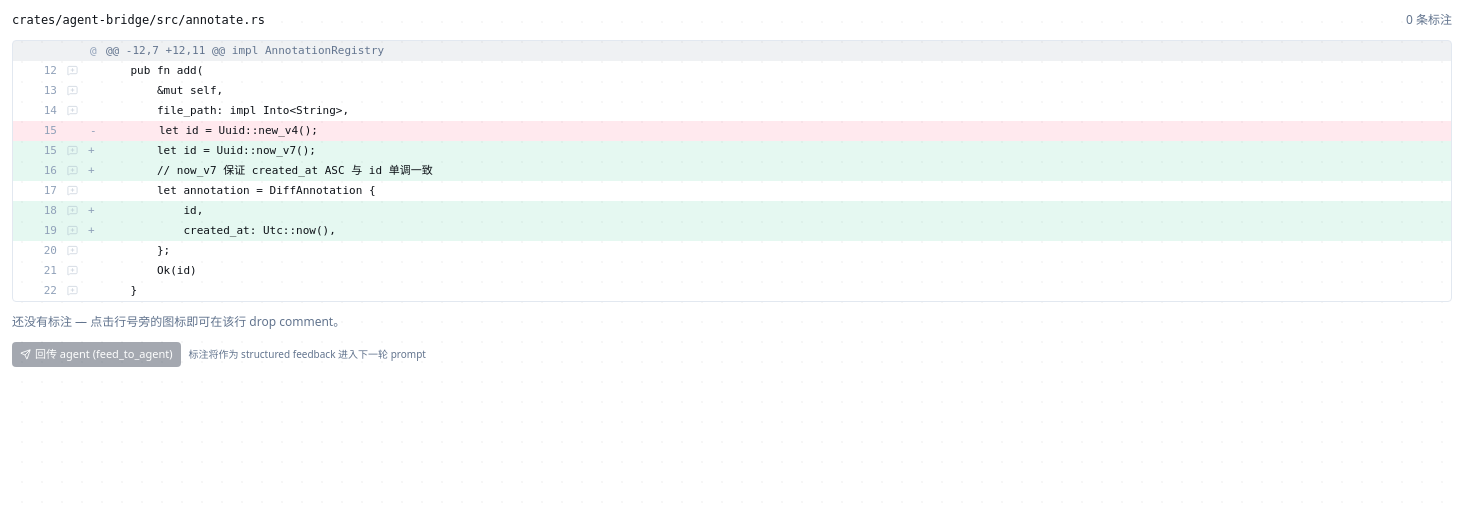
Test: DiffAnnotator › 删除标注后列表回到空态
Expected: the text "还没有标注 — 点击行号旁的图标即可在该行 drop comment。" is shown, 12,313 -> 345,330
Step 1. Click the button with test id "annotation-gutter-15" → (72, 150), box 65,143 -> 80,158
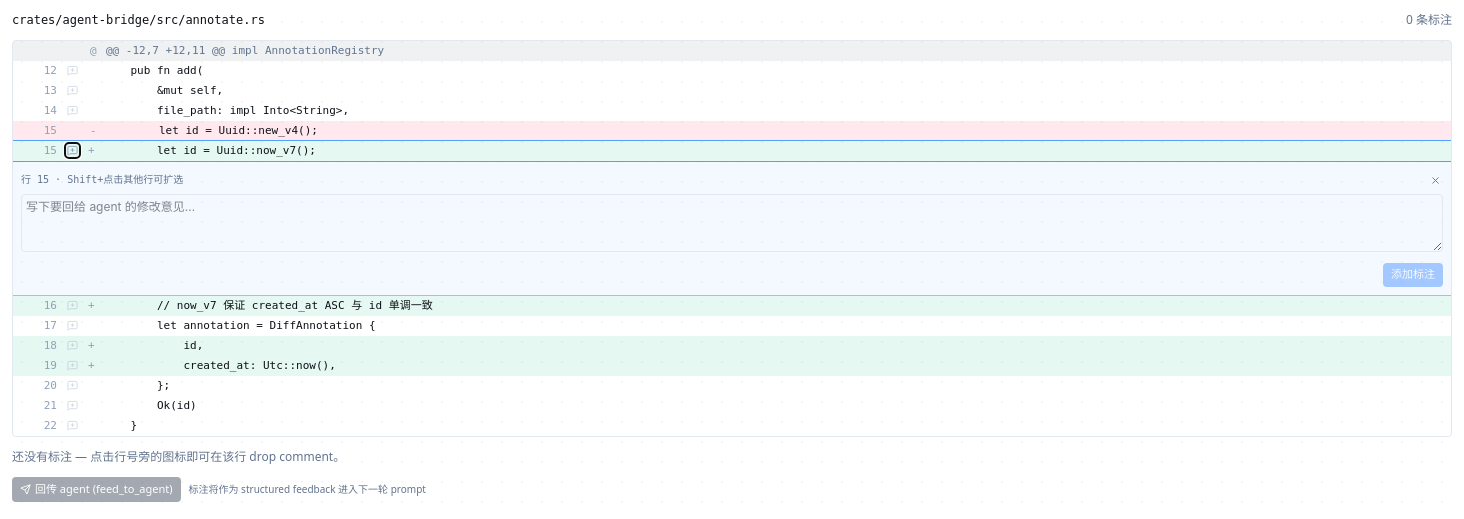
Step 2. Type "先记一笔" into the text box with test id "annotation-body-input" → (732, 223), box 21,194 -> 1443,252
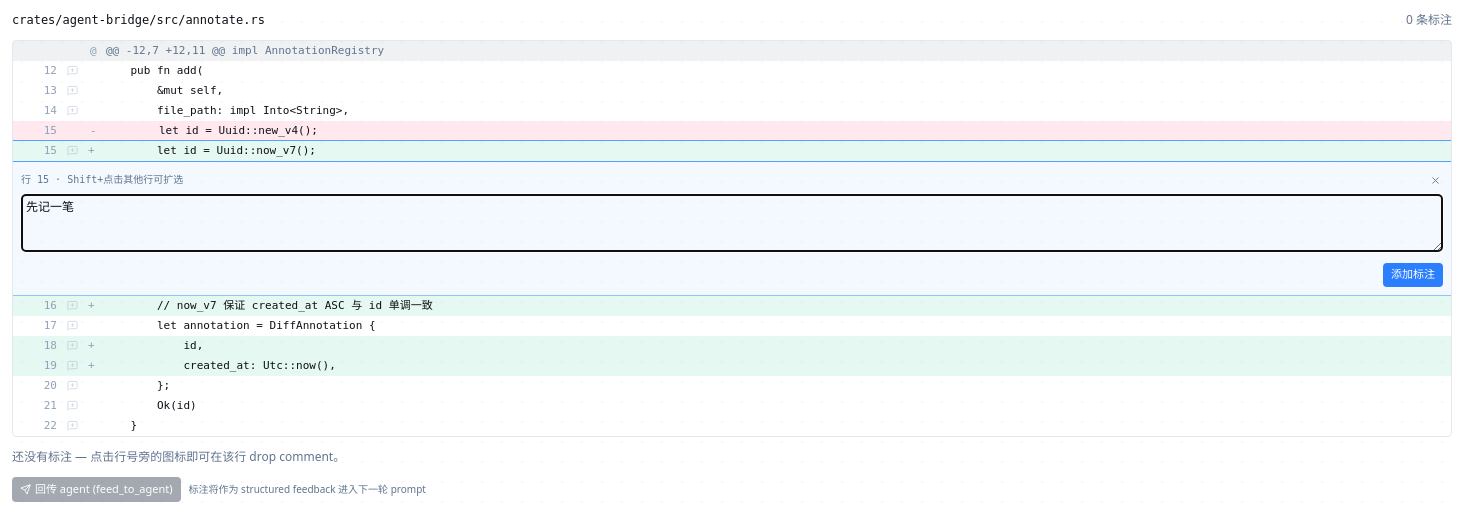
Step 3. Click the button with test id "annotation-submit" → (1413, 275), box 1383,263 -> 1443,287
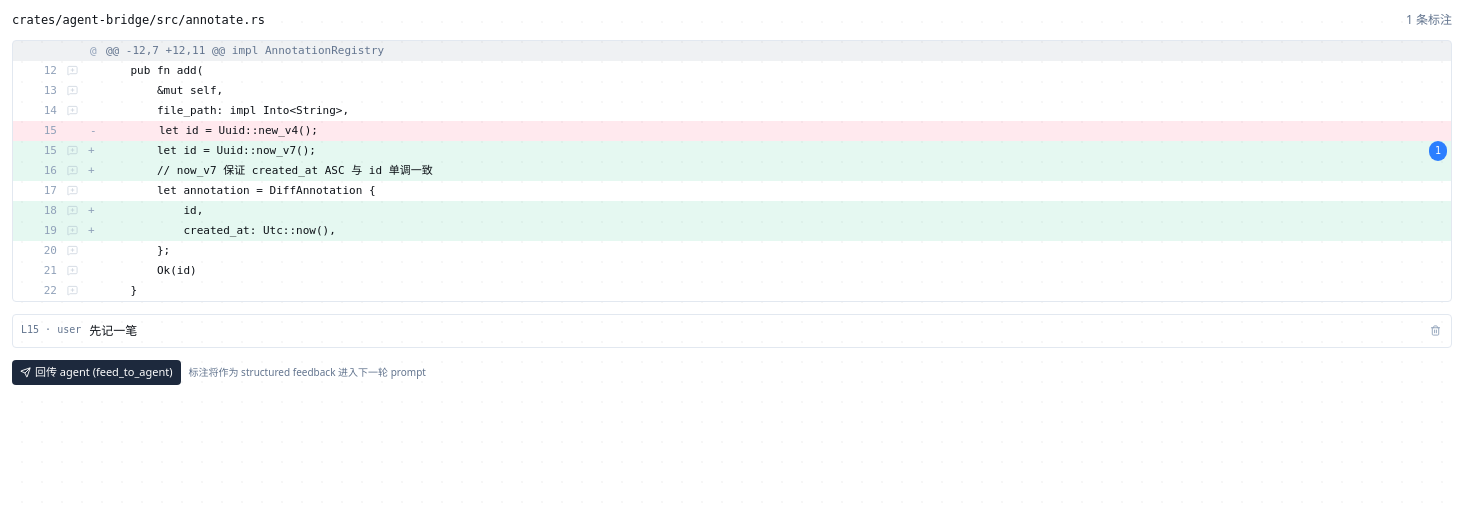
Expected: the element with test id "annotation-item" is shown, 12,314 -> 1452,348
Step 4. Click the button with test id "annotation-delete" → (1436, 330), box 1428,323 -> 1443,338
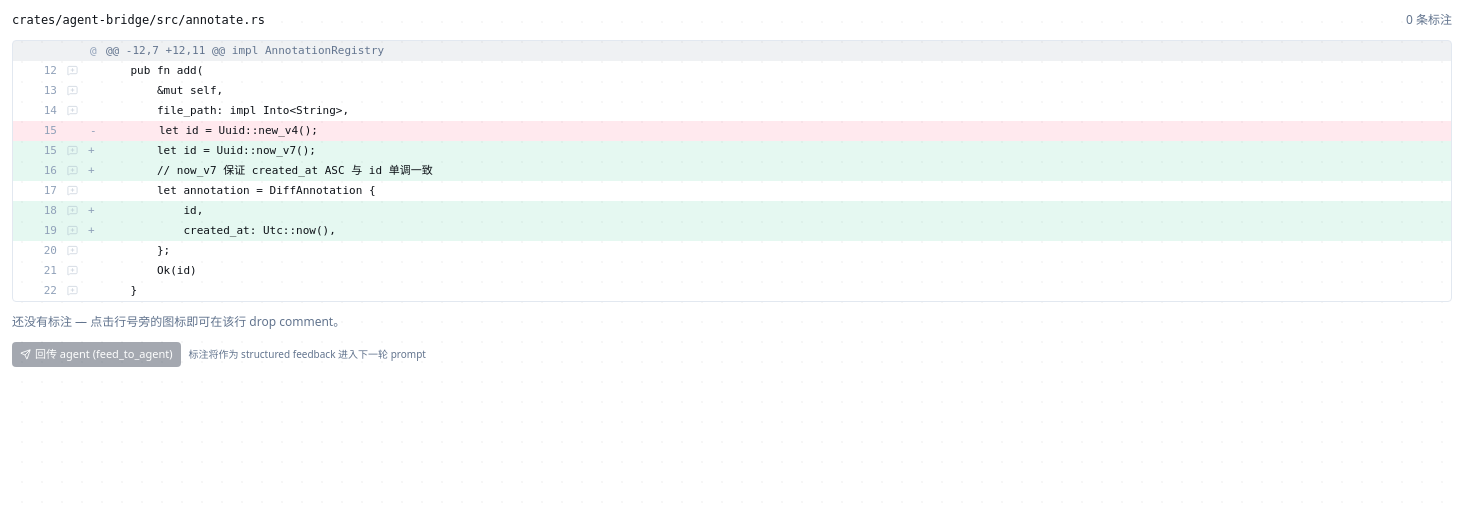
Expected: the text "还没有标注 — 点击行号旁的图标即可在该行 drop comment。" is shown, 12,313 -> 345,330
Expected: the text with test id "annotation-marker-15" is gone
